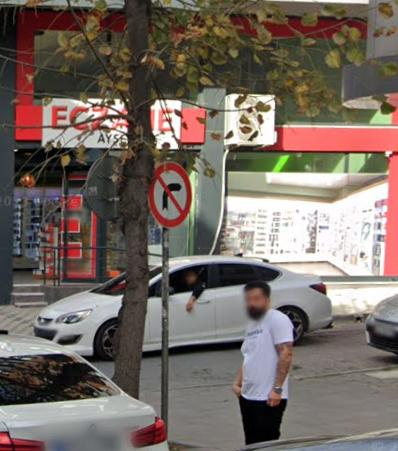rightturnsareforbidden: (145, 158, 201, 233)
